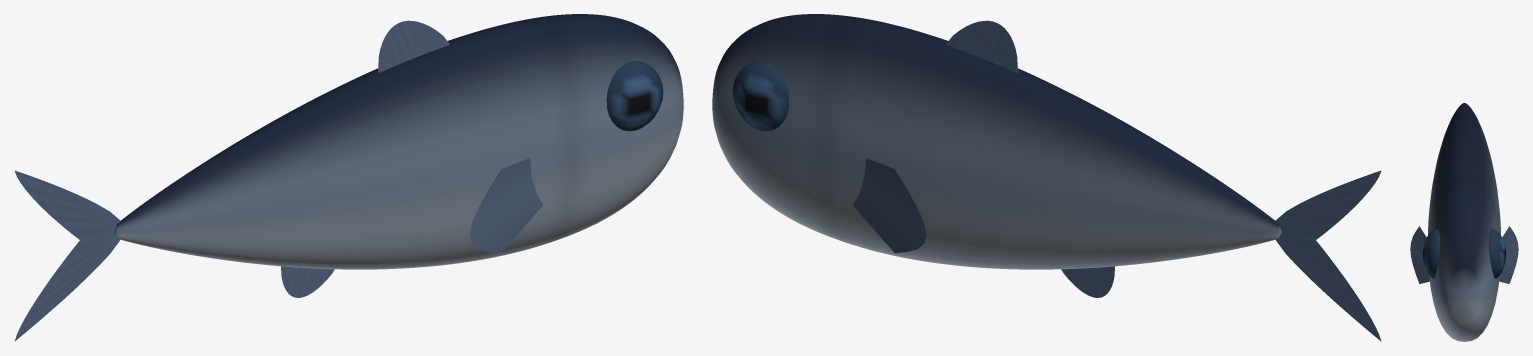
Rendered from isikli.glb.
3 views of the same model, side by side, from view 1: azimuth 30°, elevation 25°; view 2: azimuth 150°, elevation 25°; view 3: azimuth 270°, elevation 25° (orthographic). The views are drawn at different scales.
Visible parts, largest first — view 1: isikli_govde, isikli_kuyruk, isikli_gogusL, isikli_gozL, isikli_sirt, isikli_anal_a; view 2: isikli_govde, isikli_kuyruk, isikli_gogusR, isikli_gozR, isikli_sirt, isikli_anal_a; view 3: isikli_govde, isikli_gogusL, isikli_gogusR, isikli_gozL, isikli_gozR.
Part boxes in pixels (x1,y1,x2,y2): isikli_govde: [114, 14, 683, 269]; isikli_kuyruk: [14, 170, 120, 341]; isikli_gogusL: [469, 158, 542, 253]; isikli_gozL: [606, 61, 663, 131]; isikli_sirt: [377, 20, 449, 73]; isikli_anal_a: [281, 266, 334, 297]; isikli_govde: [712, 14, 1281, 269]; isikli_kuyruk: [1275, 170, 1381, 341]; isikli_gogusR: [853, 158, 926, 253]; isikli_gozR: [732, 61, 789, 131]; isikli_sirt: [946, 20, 1018, 73]; isikli_anal_a: [1061, 266, 1114, 297]; isikli_govde: [1428, 103, 1500, 341]; isikli_gogusL: [1410, 226, 1429, 283]; isikli_gogusR: [1499, 226, 1518, 283]; isikli_gozL: [1423, 229, 1440, 278]; isikli_gozR: [1488, 229, 1505, 278].
Bounding box in the file's own units: 0.975 × 0.3559 × 0.199.
